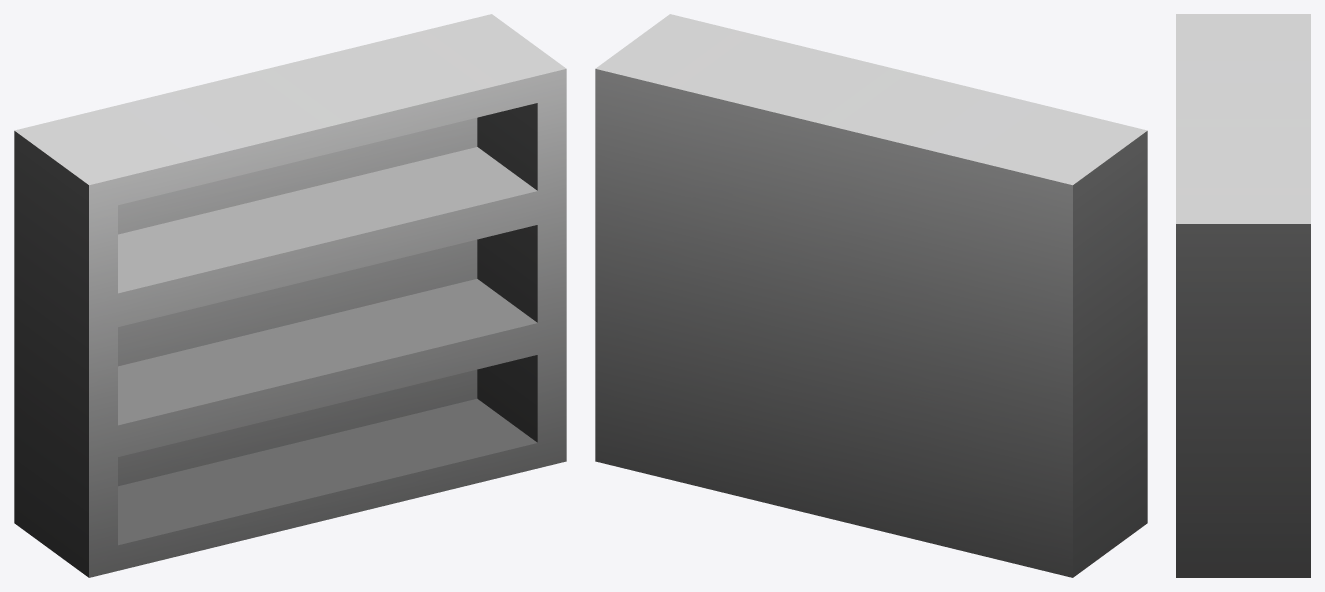
The model's file is shelf type 1.fbx.
3 views of the same model, side by side, from view 1: azimuth 30°, elevation 25°; view 2: azimuth 150°, elevation 25°; view 3: azimuth 270°, elevation 25° (orthographic). The views are drawn at different scales.
Visible parts, largest first — view 1: shelf.001; view 2: shelf.001; view 3: shelf.001.
Part boxes in pixels (bbox=[...]): shelf.001: bbox=[14, 14, 566, 577]; shelf.001: bbox=[595, 14, 1147, 577]; shelf.001: bbox=[1176, 14, 1310, 577].
Size of the model in its own units: 693 by 544 by 188.
Materials: 1 (1 with a texture image).
